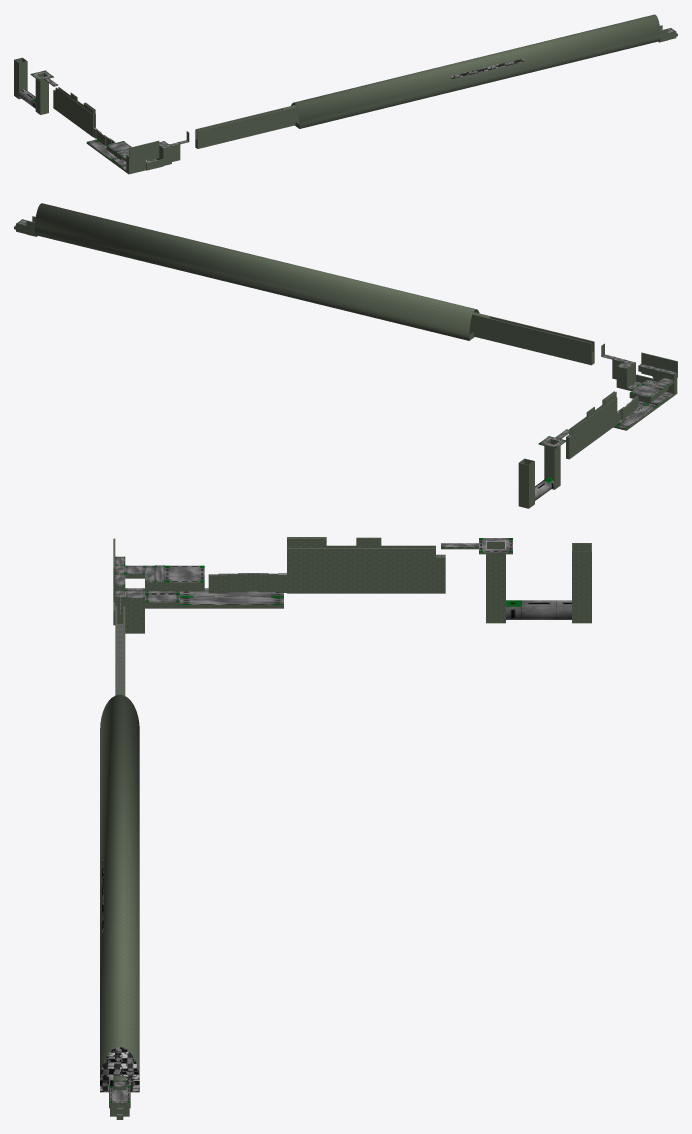
Rendered from DigitalSea2.glb.
The picture shows the model from 3 angles, top to bottom: view 1: azimuth 30°, elevation 25°; view 2: azimuth 150°, elevation 25°; view 3: azimuth 270°, elevation 25°; orthographic projection. The views are drawn at different scales.
Visible parts, largest first — view 1: Cylinder-outside-col.003, Cube-col.004, Cube-col.003, Cube-col.002, Cube-col.001, Cube-col, Cylinder-col.011; view 2: Cylinder-outside-col.003, Cube-col.003, Cube-col.004, Cube-col.002, Cube-col.001, Cube-col; view 3: Cylinder-outside-col.003, Cube-col.002, Cube-col.003, Cube-col.001, Cube-col, Cylinder-col, Cube-col.004.
Part boxes in pixels (left/top/right/bottom): Cylinder-outside-col.003: left=291, top=14, right=661, bottom=128; Cube-col.004: left=195, top=105, right=299, bottom=148; Cube-col.003: left=86, top=131, right=189, bottom=174; Cube-col.002: left=53, top=87, right=115, bottom=145; Cube-col.001: left=30, top=70, right=58, bottom=114; Cube-col: left=14, top=57, right=27, bottom=99; Cylinder-col.011: left=451, top=58, right=523, bottom=78; Cylinder-outside-col.003: left=33, top=203, right=479, bottom=340; Cube-col.003: left=601, top=343, right=677, bottom=430; Cube-col.004: left=469, top=312, right=594, bottom=365; Cube-col.002: left=566, top=391, right=638, bottom=459; Cube-col.001: left=538, top=429, right=571, bottom=489; Cube-col: left=518, top=458, right=534, bottom=508; Cylinder-outside-col.003: left=100, top=694, right=139, bottom=1092; Cube-col.002: left=208, top=537, right=445, bottom=593; Cube-col.003: left=113, top=538, right=283, bottom=633; Cube-col.001: left=441, top=538, right=512, bottom=623; Cube-col: left=572, top=543, right=591, bottom=623; Cylinder-col: left=506, top=600, right=571, bottom=619; Cube-col.004: left=115, top=606, right=125, bottom=695.
Size of the model in its own units: 6389 by 451 by 2477.
8 materials, 8 textured.
